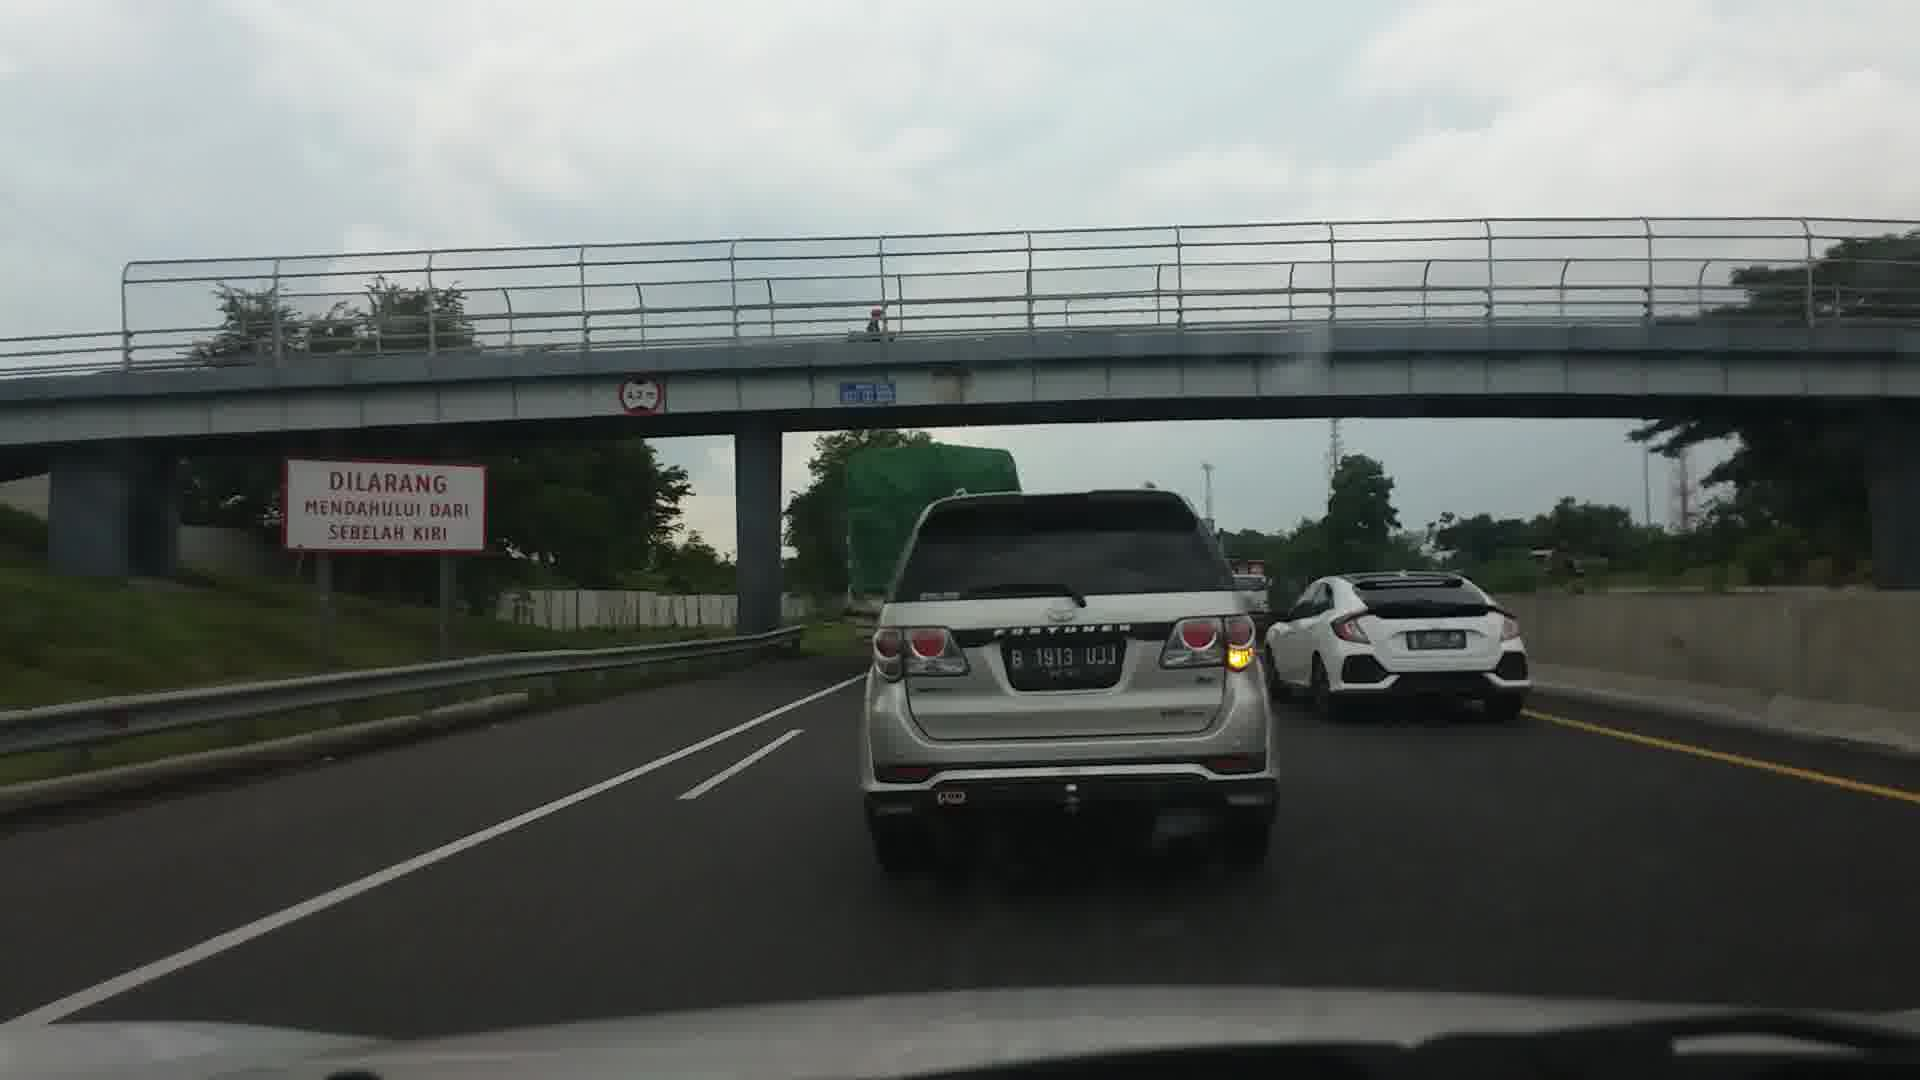plate_positive: (1006, 642, 1120, 679)
